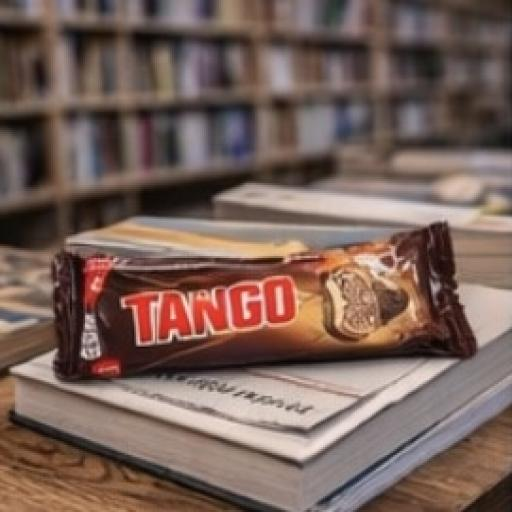tango: (24, 193, 492, 433)
